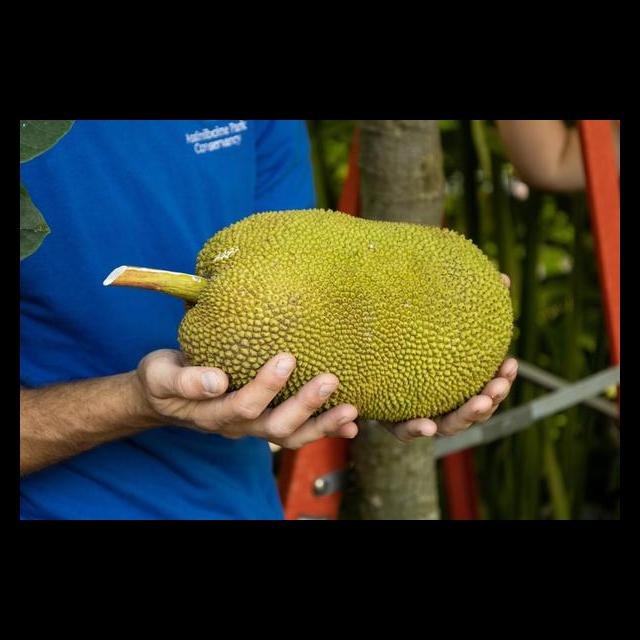mit: (176, 212, 514, 427)
